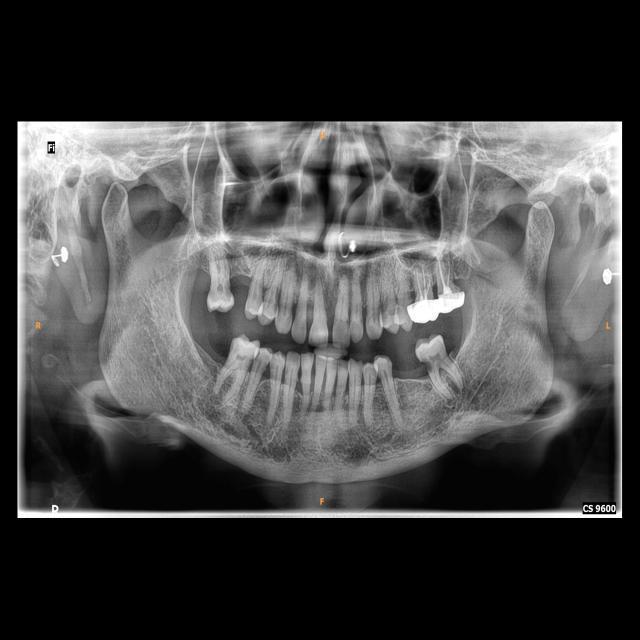dentin-curugu: (420, 350, 440, 377)
kanal-tedavisi: (413, 265, 434, 300), (435, 258, 456, 292)
kaplama: (408, 296, 440, 324), (437, 287, 468, 313)
